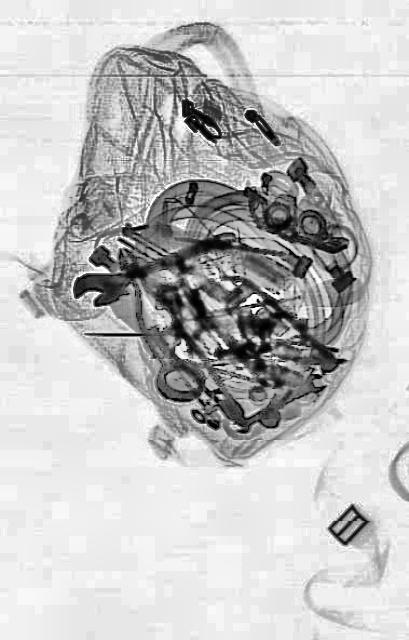Pliers: (145, 300, 247, 432), (103, 230, 193, 372)
Wrench: (70, 212, 239, 316), (231, 364, 327, 440)
